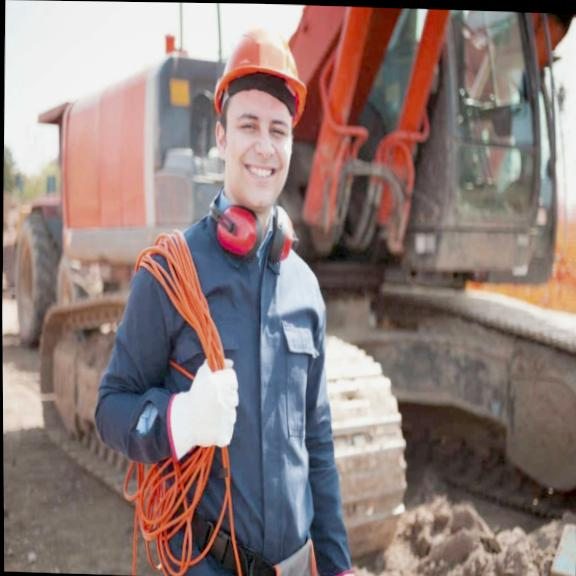no_safety_vest: (142, 183, 326, 512)
